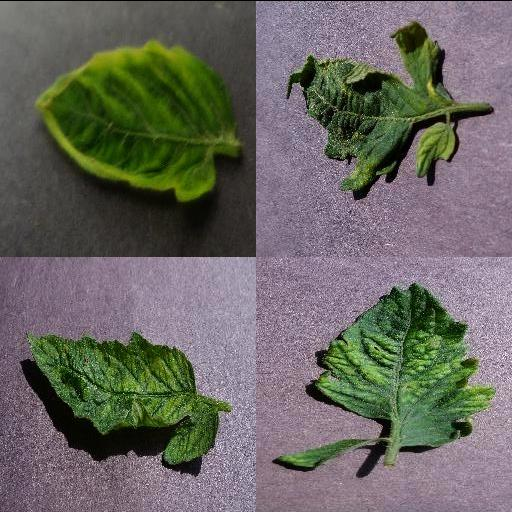Mosaic Virus: (314, 280, 496, 448), (285, 20, 457, 194), (21, 331, 217, 465), (275, 437, 373, 469)
Yellow Leaf Curl Virus: (34, 38, 238, 204)
